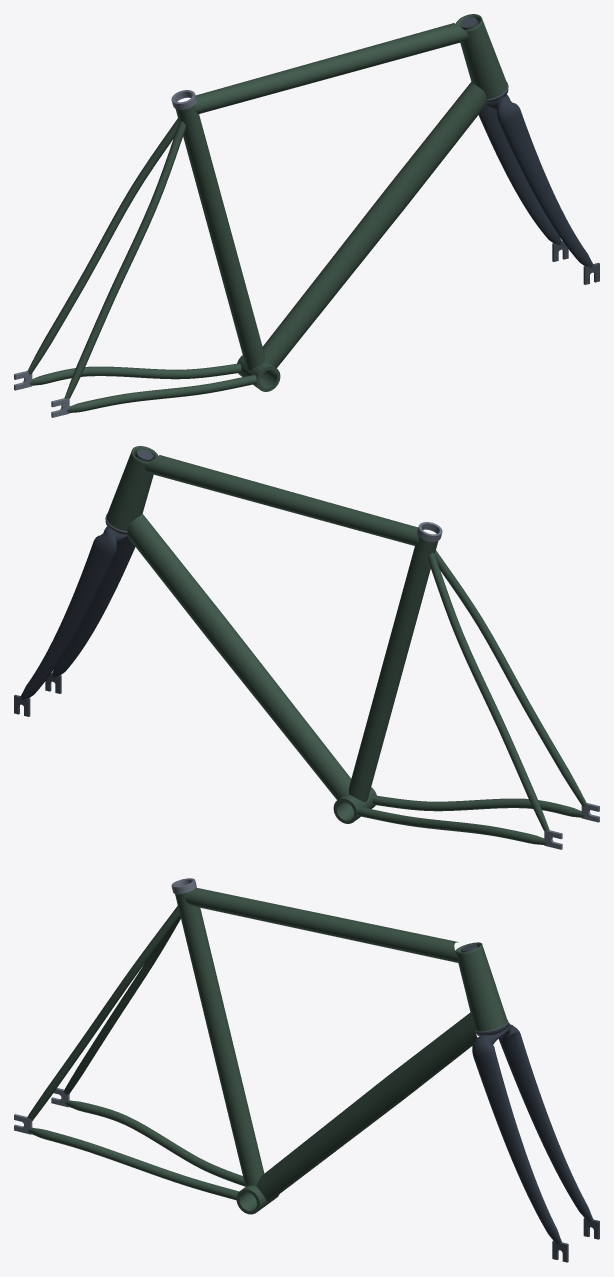
Rendered from skream-ranger-m.glb.
The picture shows the model from 3 angles, top to bottom: view 1: azimuth 30°, elevation 25°; view 2: azimuth 150°, elevation 25°; view 3: azimuth 330°, elevation 25°; orthographic projection.
Parts seen in each view (by area): view 1: paint_down, paint_seat, paint_top, fork_blade_1, paint_seatstay_1, paint_seatstay_-1, fork_blade_-1, paint_head, paint_chainstay_-1, paint_chainstay_1, paint_bottom_bracket; view 2: paint_down, paint_seat, paint_top, fork_blade_-1, paint_seatstay_-1, paint_seatstay_1, fork_blade_1, paint_head, paint_chainstay_1, paint_chainstay_-1, paint_bottom_bracket; view 3: paint_down, paint_seat, paint_top, fork_blade_1, fork_blade_-1, paint_head, paint_seatstay_1, paint_chainstay_1, paint_chainstay_-1, paint_seatstay_-1, fork_crown, paint_bottom_bracket.
Boxes of the visible parts, bbox=[...] form: paint_down: bbox=[262, 82, 486, 368]; paint_seat: bbox=[175, 104, 264, 369]; paint_top: bbox=[195, 23, 468, 113]; fork_blade_1: bbox=[499, 110, 593, 267]; paint_seatstay_1: bbox=[64, 120, 185, 398]; paint_seatstay_-1: bbox=[27, 118, 179, 374]; fork_blade_-1: bbox=[478, 104, 562, 244]; paint_head: bbox=[455, 14, 507, 99]; paint_chainstay_-1: bbox=[29, 363, 241, 385]; paint_chainstay_1: bbox=[67, 374, 256, 412]; paint_bottom_bracket: bbox=[237, 355, 280, 391]; paint_down: bbox=[127, 514, 351, 800]; paint_seat: bbox=[349, 536, 438, 801]; paint_top: bbox=[145, 455, 418, 545]; fork_blade_-1: bbox=[20, 542, 114, 699]; paint_seatstay_-1: bbox=[428, 552, 549, 830]; paint_seatstay_1: bbox=[434, 550, 586, 806]; fork_blade_1: bbox=[51, 536, 135, 676]; paint_head: bbox=[106, 446, 158, 531]; paint_chainstay_1: bbox=[372, 795, 584, 817]; paint_chainstay_-1: bbox=[357, 806, 546, 844]; paint_bottom_bracket: bbox=[333, 787, 376, 823]; paint_down: bbox=[256, 1012, 477, 1201]; paint_seat: bbox=[175, 892, 264, 1186]; paint_top: bbox=[185, 888, 458, 962]; fork_blade_1: bbox=[473, 1053, 562, 1244]; fork_blade_-1: bbox=[498, 1034, 593, 1222]; paint_head: bbox=[455, 942, 507, 1031]; paint_seatstay_1: bbox=[27, 906, 180, 1121]; paint_chainstay_1: bbox=[28, 1127, 239, 1200]; paint_chainstay_-1: bbox=[65, 1100, 245, 1186]; paint_seatstay_-1: bbox=[64, 916, 180, 1094]; fork_crown: bbox=[472, 1023, 520, 1057]; paint_bottom_bracket: bbox=[236, 1185, 279, 1214].
Bounding box in the file's own units: 1.06 × 0.5812 × 0.1438.
